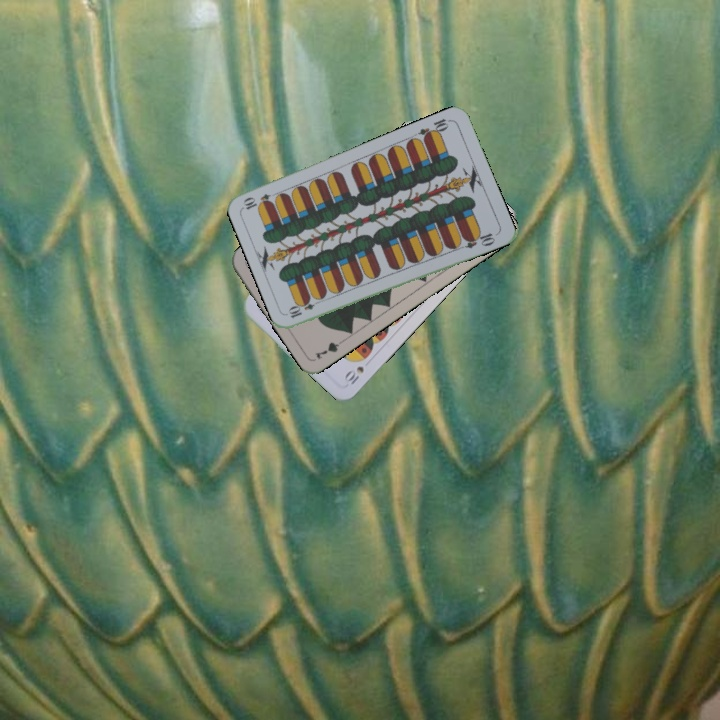E10: (415, 114, 454, 143), (284, 295, 324, 321)
G7: (311, 334, 349, 362)
S10: (340, 362, 367, 389)
